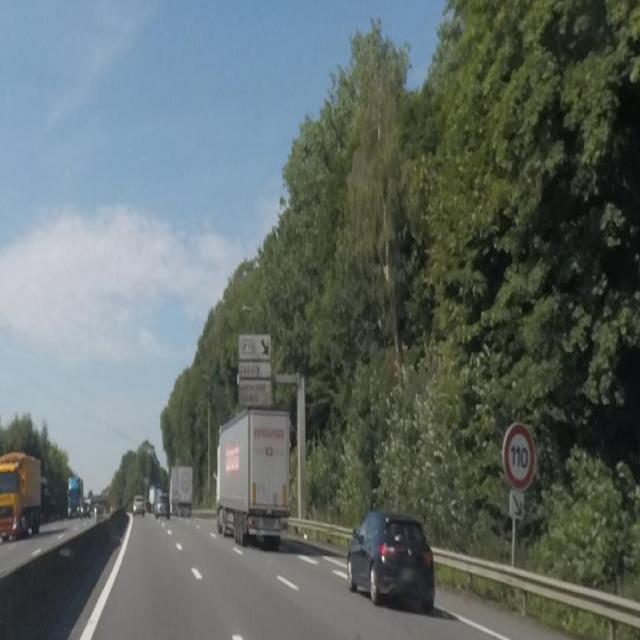speed_110: (504, 423, 535, 489)
